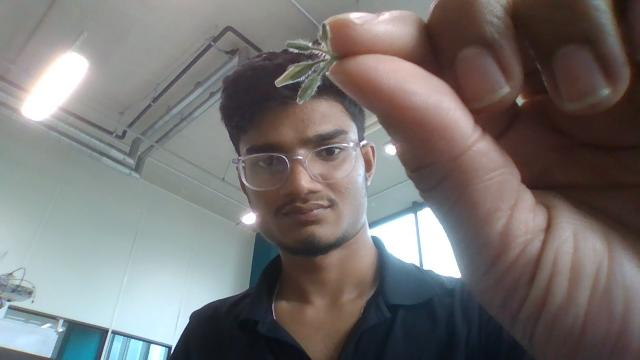Flower Bud: (273, 58, 324, 87), (295, 68, 330, 105), (284, 39, 320, 53), (320, 21, 331, 46)
